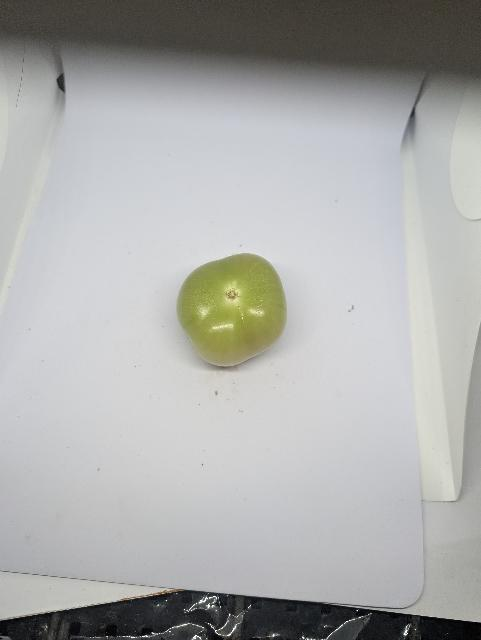green: (166, 250, 292, 376)
